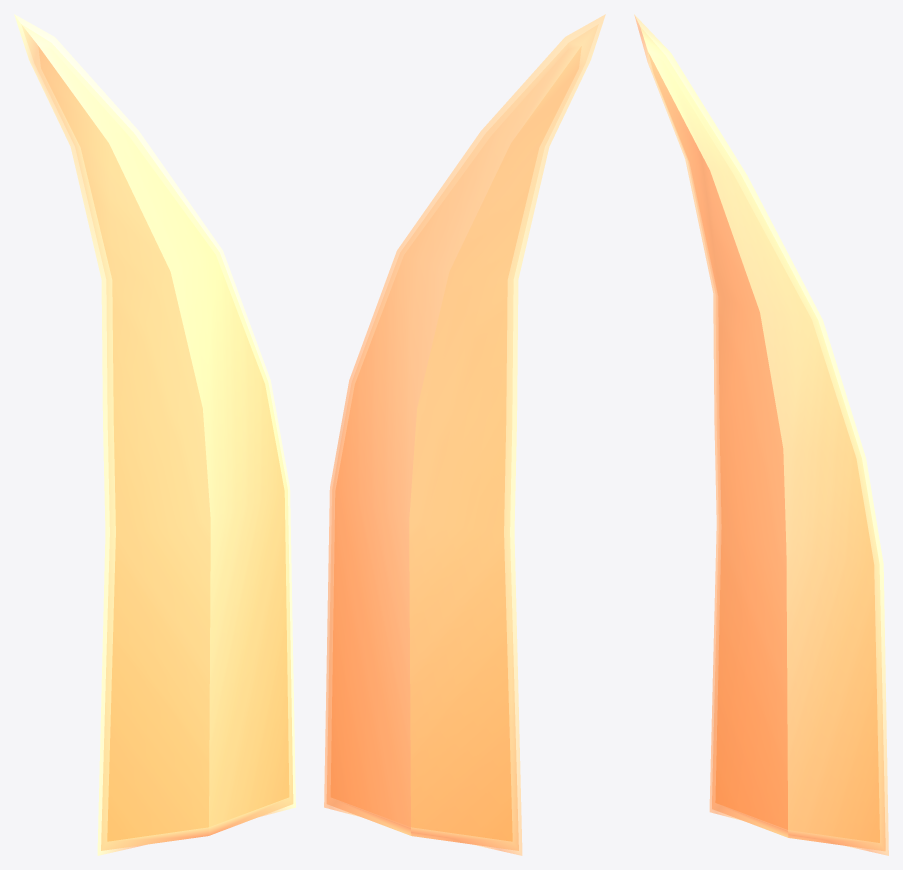
Rendered from wood_blade (12).glb.
The picture shows the model from 3 angles, left to right: view 1: azimuth 30°, elevation 25°; view 2: azimuth 150°, elevation 25°; view 3: azimuth 330°, elevation 25°; orthographic projection. The views are drawn at different scales.
Parts seen in each view (by area): view 1: wood_blade_steel.074; view 2: wood_blade_steel.074; view 3: wood_blade_steel.074.
Boxes of the visible parts, box(x1,y1,x2,y2) form: wood_blade_steel.074: box(14, 14, 295, 855); wood_blade_steel.074: box(324, 14, 605, 855); wood_blade_steel.074: box(634, 14, 888, 855).
Bounding box in the file's own units: 4.2 × 12.29 × 0.7262.
Materials: 1 (1 with a texture image).
